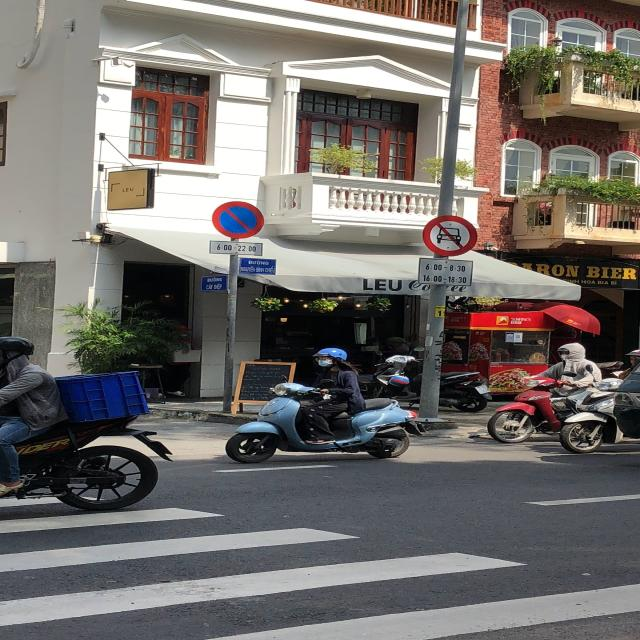Bien bao cam do xe: (208, 196, 272, 241)
Bien bao cam xe oto: (413, 209, 479, 252)
